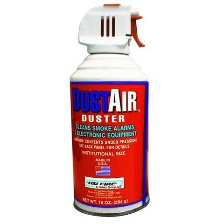cleaning_solution: (65, 0, 153, 220)
